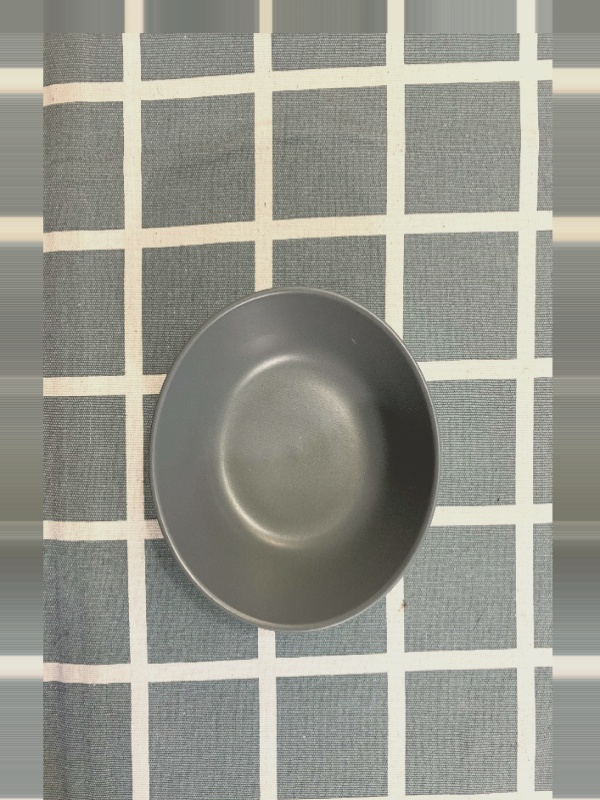bowl_big: (137, 276, 445, 654)
